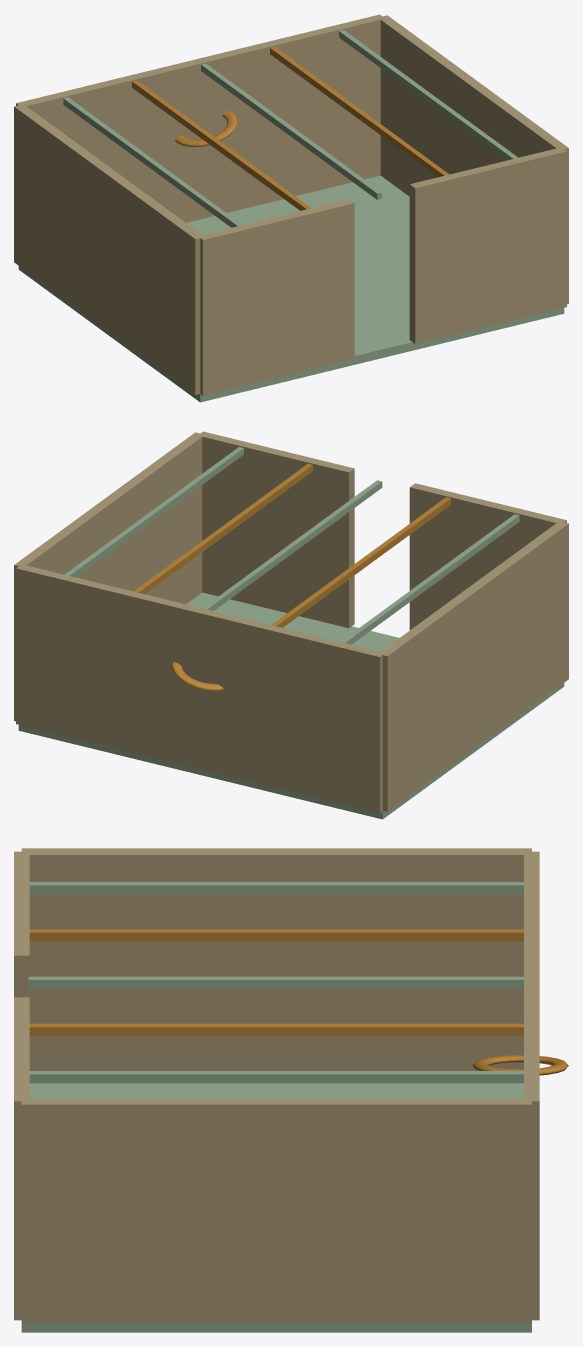
The model's file is steam_workshop.glb.
3 renders of one model, top to bottom at view 1: azimuth 30°, elevation 25°; view 2: azimuth 150°, elevation 25°; view 3: azimuth 270°, elevation 25°, orthographic. The views are drawn at different scales.
Visible parts, largest first — view 1: wall_north, wall_west, wall_south_right, wall_south_left, wall_east, floor, ceiling_beam_0, ceiling_beam_-2, ceiling_beam_-1, ceiling_beam_1, ceiling_beam_2, purpose_gear_workshop; view 2: wall_north, wall_west, wall_south_right, wall_east, wall_south_left, floor, ceiling_beam_0, ceiling_beam_-2, ceiling_beam_-1, ceiling_beam_1, ceiling_beam_2, purpose_gear_workshop; view 3: wall_east, wall_west, floor, ceiling_beam_0, ceiling_beam_-1, ceiling_beam_-2, ceiling_beam_1, ceiling_beam_2, wall_north, wall_south_right, wall_south_left, purpose_gear_workshop.
Boxes of the visible parts, <box> form: wall_north: <box>16,14,384,222</box>; wall_west: <box>14,105,204,394</box>; wall_south_right: <box>409,147,566,343</box>; wall_south_left: <box>198,199,354,395</box>; wall_east: <box>379,15,568,304</box>; floor: <box>18,175,564,402</box>; ceiling_beam_0: <box>201,63,382,199</box>; ceiling_beam_-2: <box>63,97,242,227</box>; ceiling_beam_-1: <box>132,80,311,210</box>; ceiling_beam_1: <box>270,46,449,177</box>; ceiling_beam_2: <box>339,30,517,160</box>; purpose_gear_workshop: <box>175,111,237,147</box>; wall_north: <box>16,564,384,812</box>; wall_west: <box>378,522,568,811</box>; wall_south_right: <box>199,431,354,628</box>; wall_east: <box>14,432,204,721</box>; wall_south_left: <box>409,483,566,630</box>; floor: <box>18,592,564,819</box>; ceiling_beam_0: <box>203,480,382,610</box>; ceiling_beam_-2: <box>340,514,519,644</box>; ceiling_beam_-1: <box>271,497,450,627</box>; ceiling_beam_1: <box>133,463,312,594</box>; ceiling_beam_2: <box>65,447,243,577</box>; purpose_gear_workshop: <box>171,662,223,691</box>; wall_east: <box>21,1098,531,1323</box>; wall_west: <box>21,848,531,1070</box>; floor: <box>21,1083,531,1332</box>; ceiling_beam_0: <box>28,976,523,988</box>; ceiling_beam_-1: <box>29,929,523,941</box>; ceiling_beam_-2: <box>29,882,523,894</box>; ceiling_beam_1: <box>29,1023,523,1035</box>; ceiling_beam_2: <box>29,1071,523,1083</box>; wall_north: <box>524,851,539,1320</box>; wall_south_right: <box>14,997,29,1320</box>; wall_south_left: <box>14,851,29,997</box>; purpose_gear_workshop: <box>472,1055,568,1075</box>.
Size of what is drawn, in the model's own units: 13.55 by 5.7 by 12.41.
